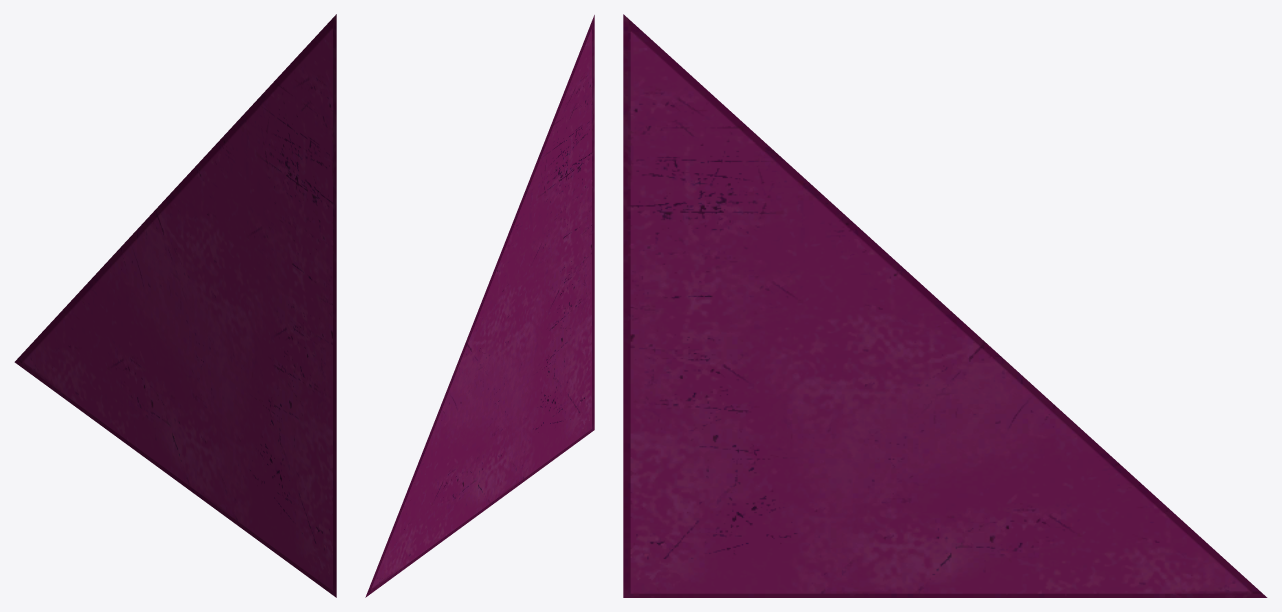
File: Face_RightTriangle_Small.fbx
3 renders of one model, left to right at view 1: azimuth 30°, elevation 25°; view 2: azimuth 150°, elevation 25°; view 3: azimuth 270°, elevation 25°, orthographic. The views are drawn at different scales.
Parts seen in each view (by area): view 1: CornerTriangleRightPlate; view 2: CornerTriangleRightPlate; view 3: CornerTriangleRightPlate.
Part boxes in pixels (x1,y1,x2,y2): CornerTriangleRightPlate: (14,14,336,597); CornerTriangleRightPlate: (365,15,594,597); CornerTriangleRightPlate: (623,14,1267,597).
Size of the model in its own units: 8.54e-07 by 2.5 by 2.5.
